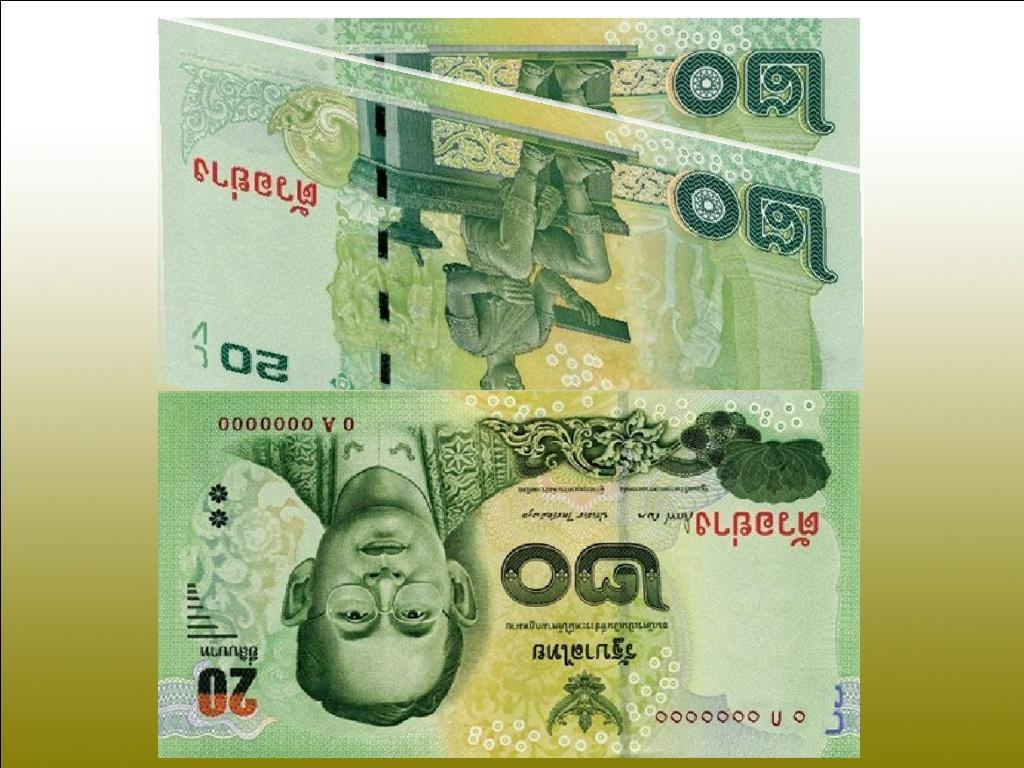20BahtTai: (153, 12, 864, 391)
